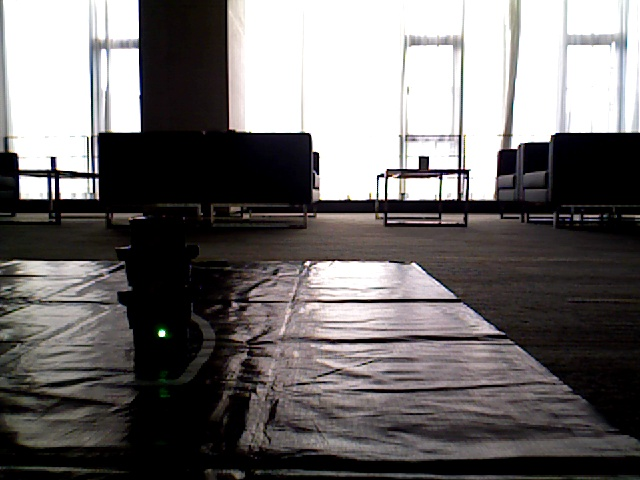green: (136, 225, 186, 353)
